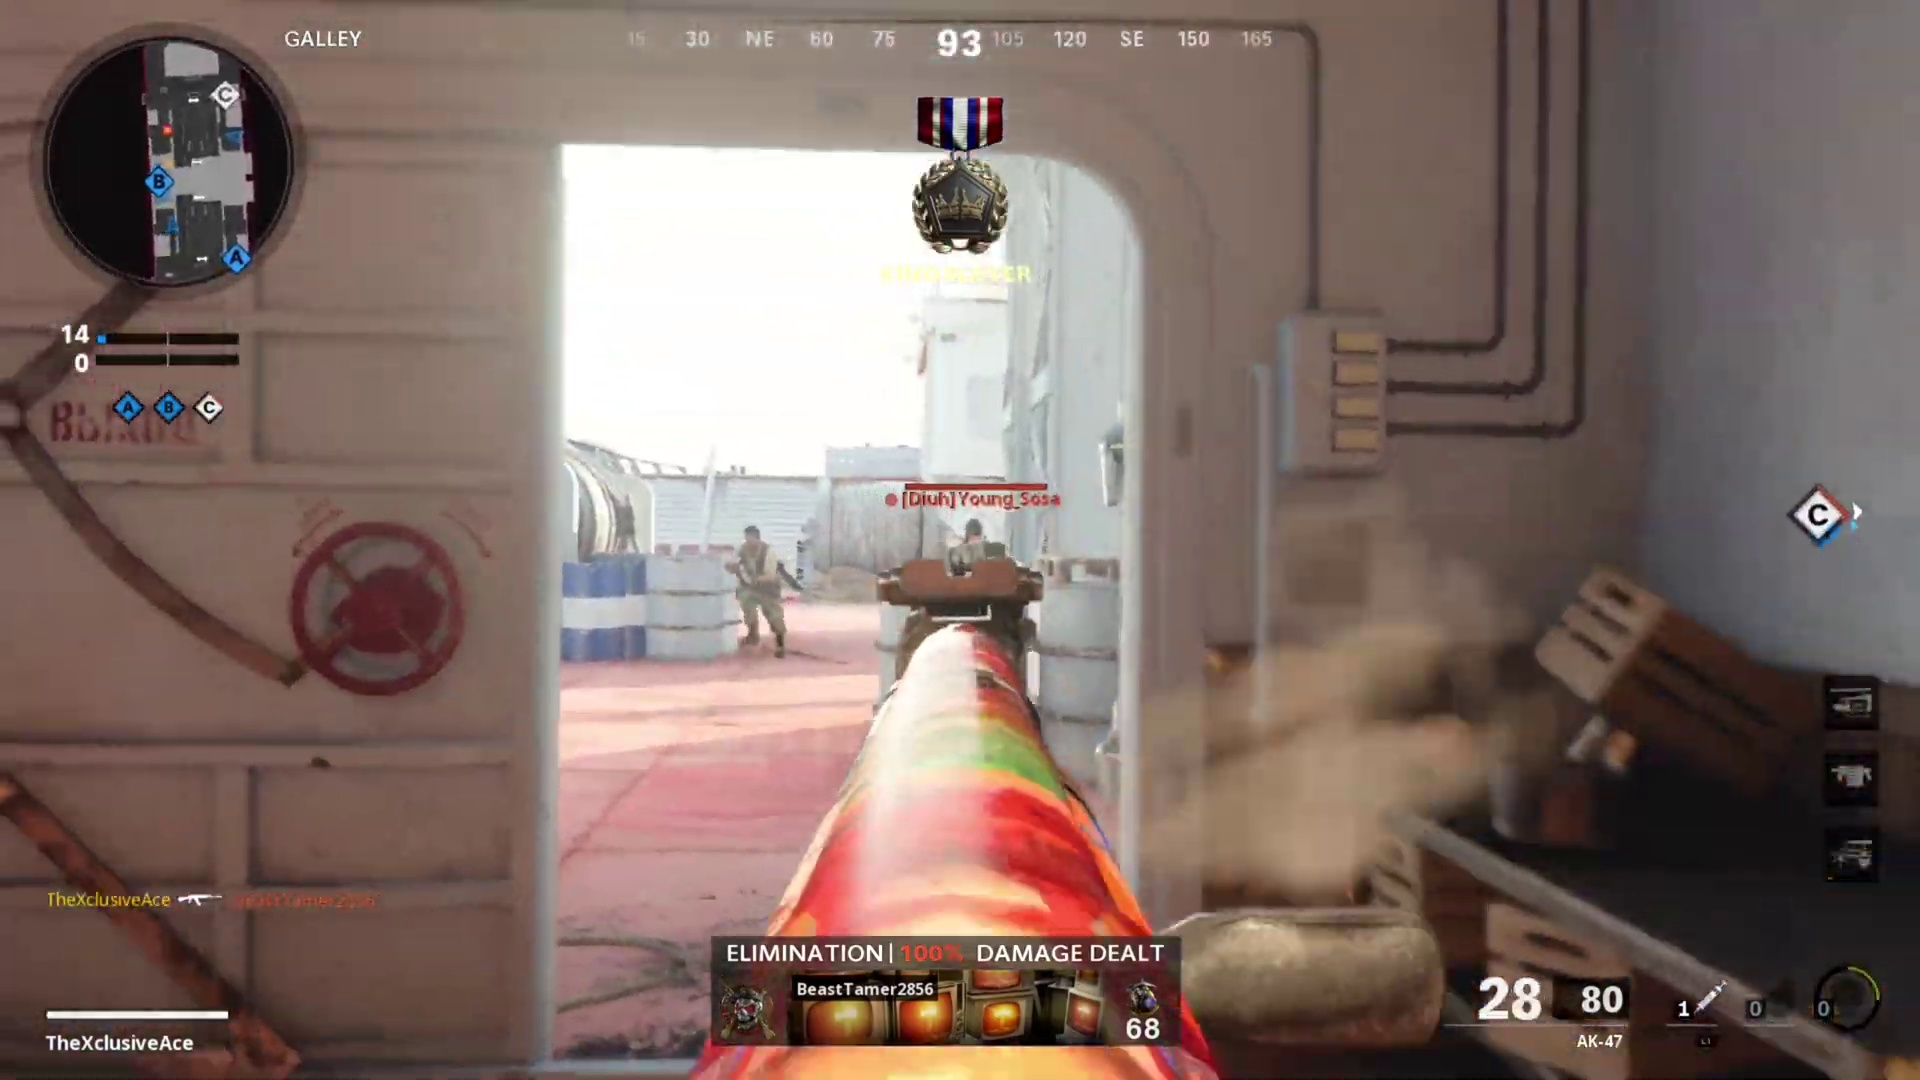head: (739, 522, 767, 559), (960, 516, 988, 547)
person: (726, 520, 795, 655)
